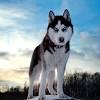Lobo: (21, 7, 78, 96)
